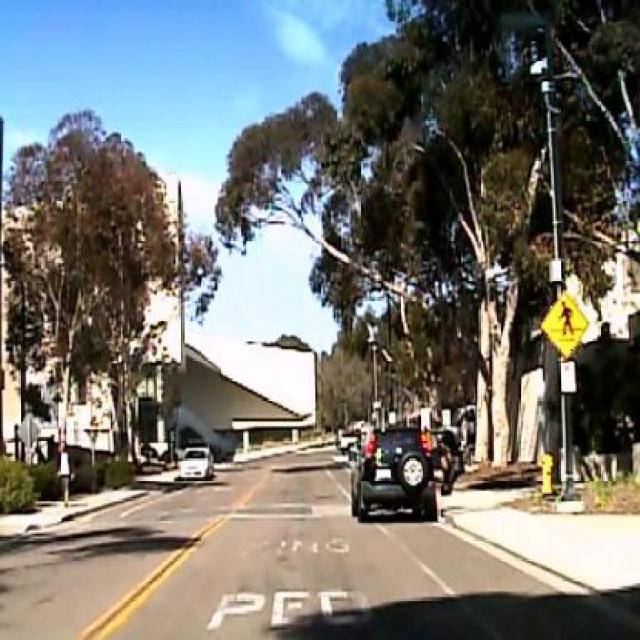pedestrianCrossing: (538, 291, 589, 358)
